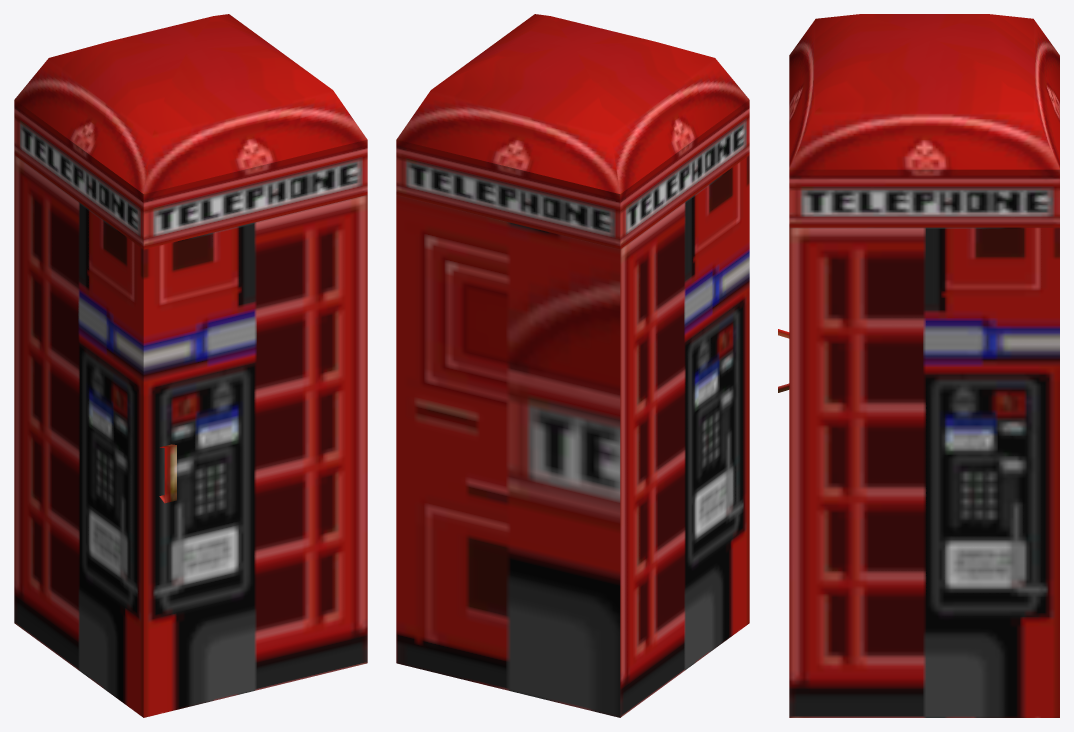
The model's file is int_oth_telephonebox.dae.
3 renders of one model, left to right at view 1: azimuth 30°, elevation 25°; view 2: azimuth 150°, elevation 25°; view 3: azimuth 270°, elevation 25°, orthographic. The views are drawn at different scales.
Visible parts, largest first — view 1: int_oth_telephonebox; view 2: int_oth_telephonebox; view 3: int_oth_telephonebox.
Part boxes in pixels (left/top/right/bottom): int_oth_telephonebox: left=14, top=14, right=367, bottom=717; int_oth_telephonebox: left=396, top=14, right=749, bottom=717; int_oth_telephonebox: left=778, top=14, right=1059, bottom=717.
Bounding box in the file's own units: 28.8 × 73.6 × 30.
2 materials, 2 textured.
